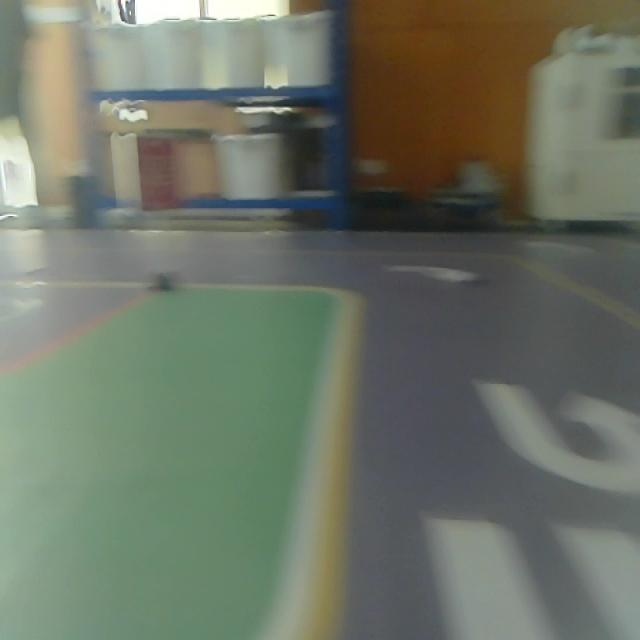left_lane: (302, 305, 362, 637)
right_lane: (524, 258, 640, 329)
